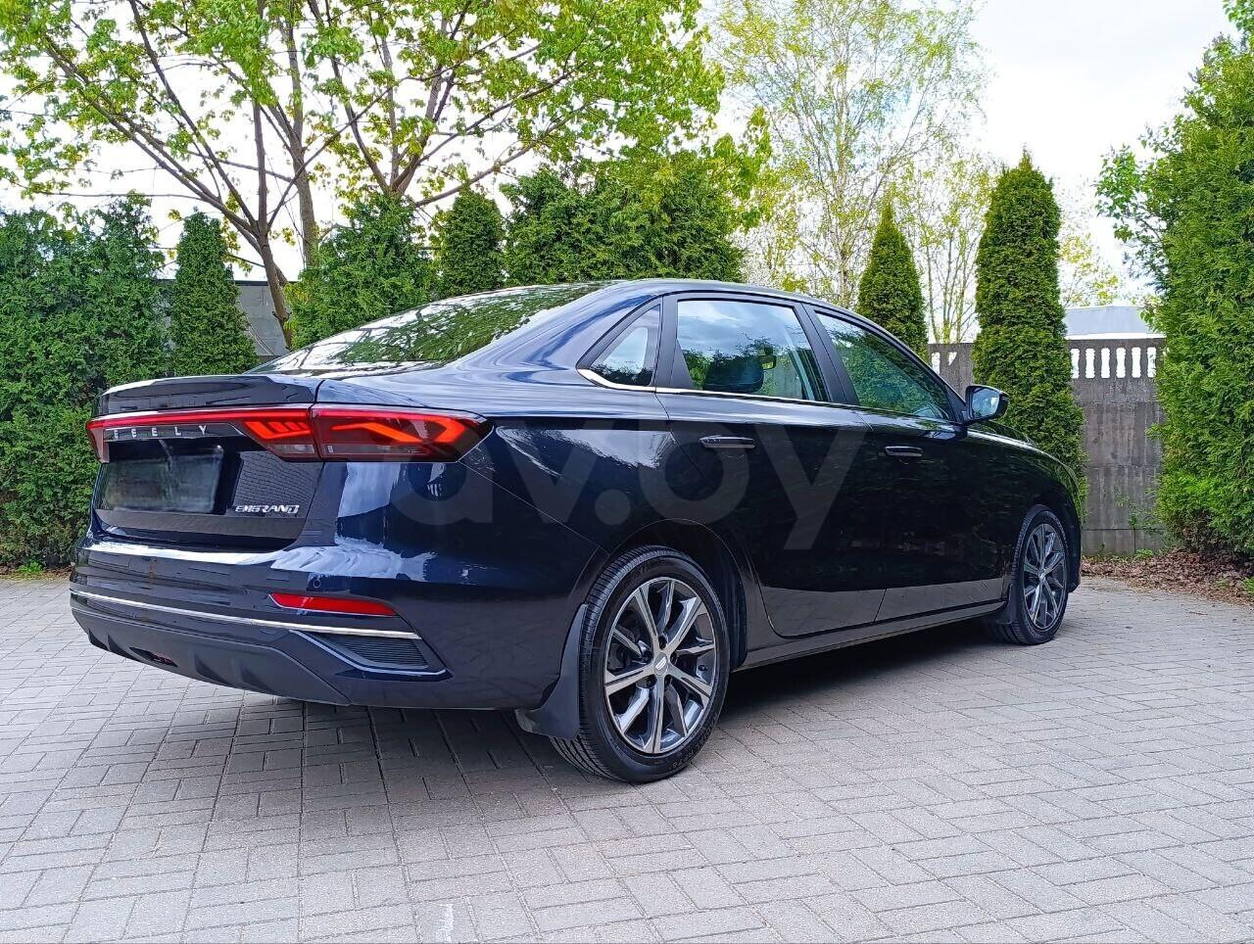Emgrand_2021: (71, 276, 1081, 783)
